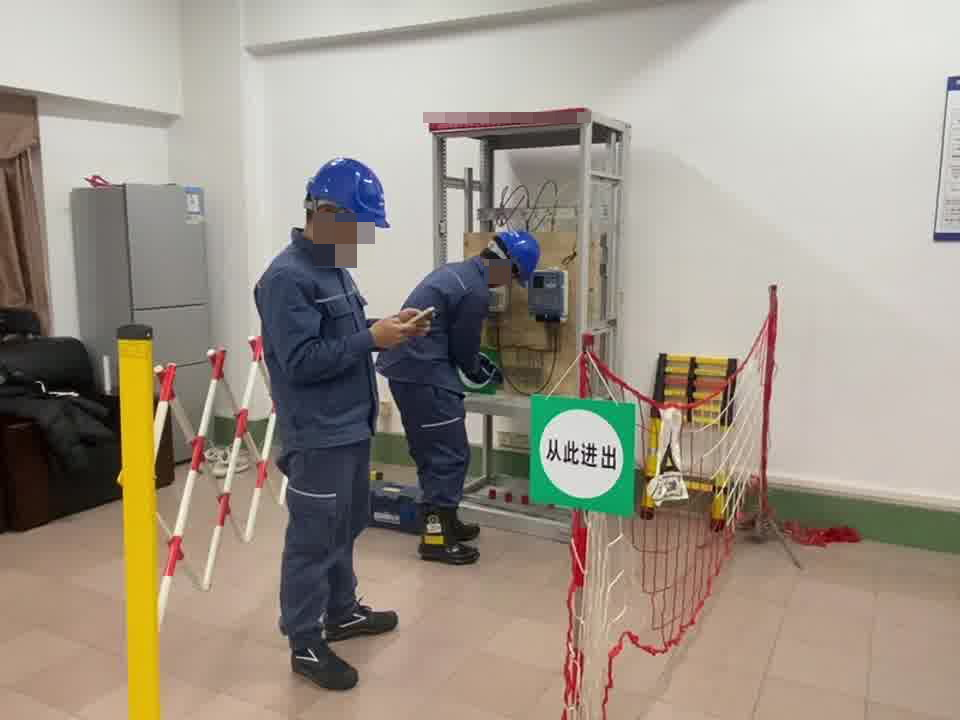downsuit: (275, 449, 376, 641), (388, 380, 473, 519)
halt: (301, 156, 391, 253), (489, 229, 542, 288)
hand: (369, 312, 413, 344), (396, 307, 431, 334)
inear: (312, 204, 342, 237), (494, 253, 516, 281)
intosign: (526, 388, 638, 523)
person: (251, 153, 395, 681), (384, 225, 545, 568)
shoe: (420, 504, 484, 567)
upsuit: (256, 241, 378, 441), (388, 254, 493, 384)
